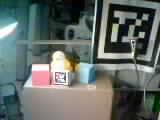duck: (41, 43, 70, 78)
